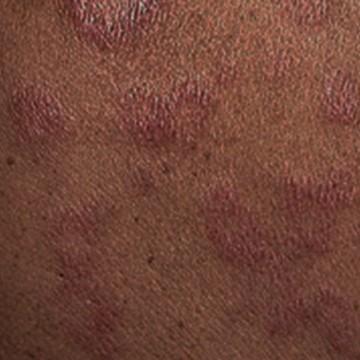Leprosy: (182, 169, 359, 359), (28, 183, 139, 336), (112, 77, 237, 162), (0, 78, 80, 166), (54, 0, 169, 56)
